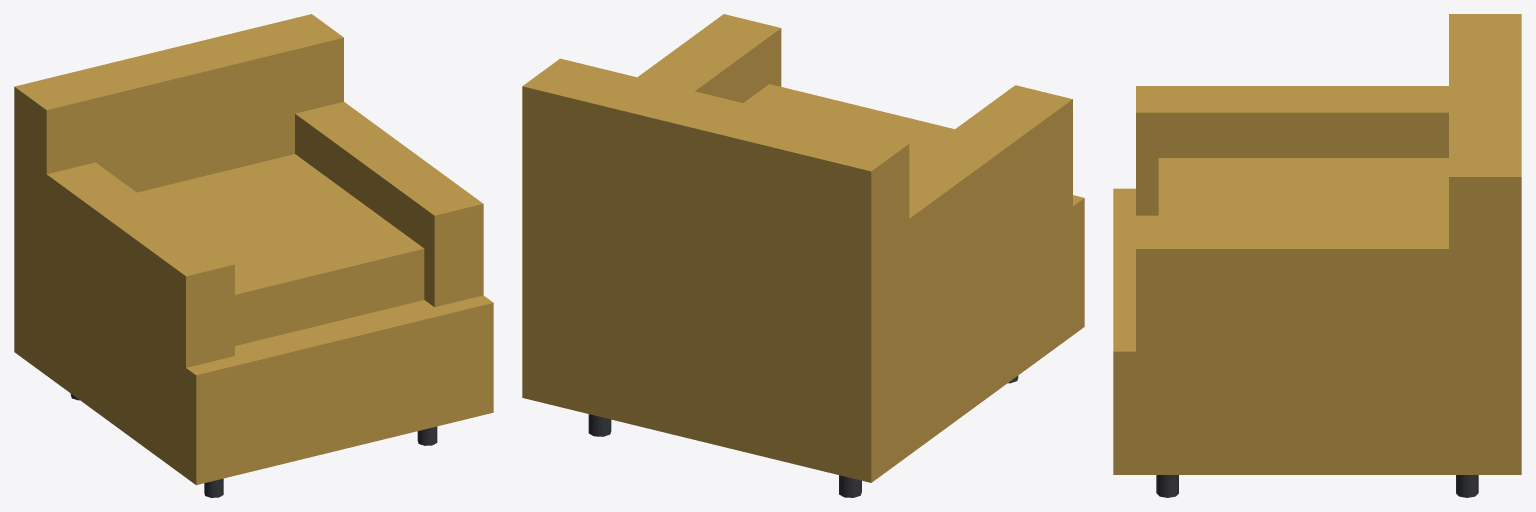
The model's file is armchair.glb.
3 renders of one model, left to right at view 1: azimuth 30°, elevation 25°; view 2: azimuth 150°, elevation 25°; view 3: azimuth 270°, elevation 25°, orthographic. The views are drawn at different scales.
Size of the model in its own units: 0.85 by 0.825 by 0.9.
